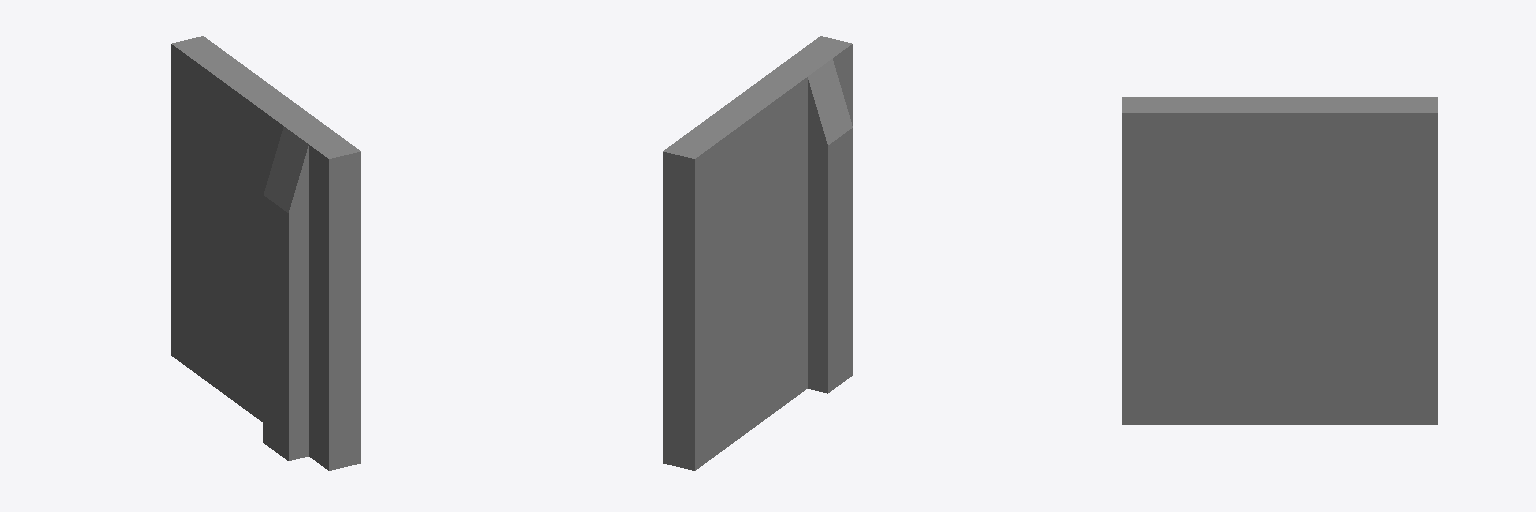
File: Box059vMolto.obj
The picture shows the model from 3 angles: view 1: azimuth 30°, elevation 25°; view 2: azimuth 150°, elevation 25°; view 3: azimuth 270°, elevation 25°; orthographic projection.
Parts seen in each view (by area): view 1: Box059; view 2: Box059; view 3: Box059.
Boxes of the visible parts, box(x1,y1,x2,y2) form: Box059: box(171, 36, 360, 470); Box059: box(663, 36, 852, 470); Box059: box(1122, 97, 1437, 424).
Size of the model in its own units: 2.58 by 14.62 by 13.41.